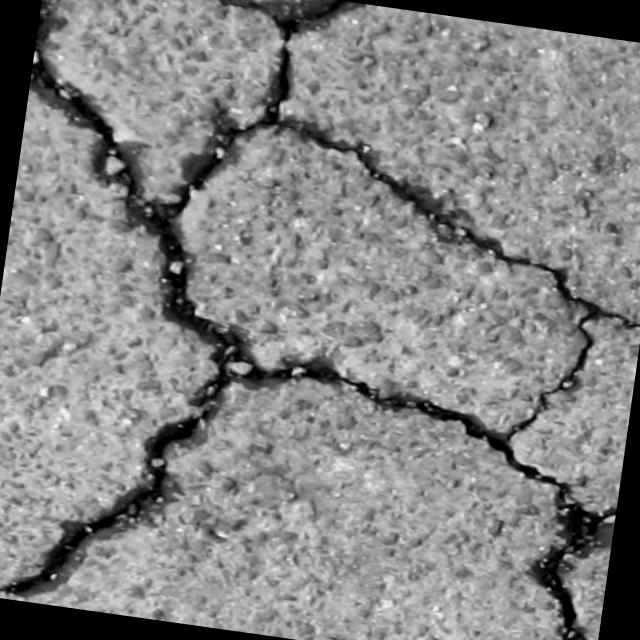crack: (467, 255, 640, 640), (11, 0, 220, 242), (118, 238, 279, 527), (268, 109, 540, 274), (166, 0, 350, 239), (255, 351, 507, 450), (0, 492, 158, 616)
